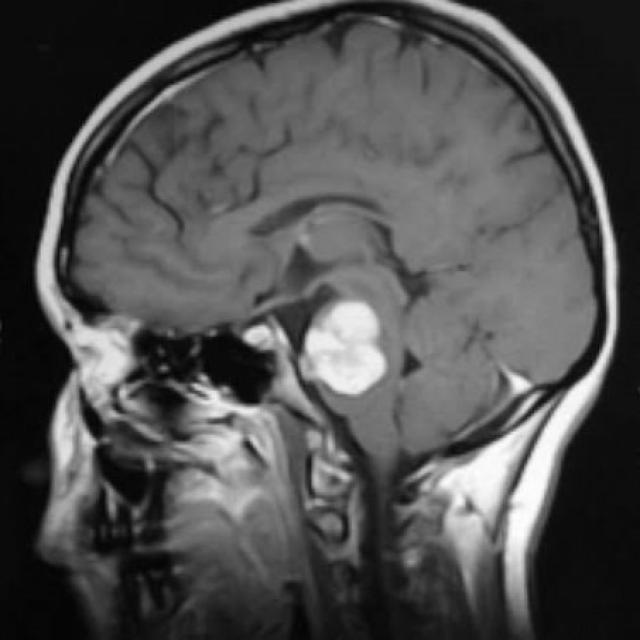glioma: (298, 298, 388, 401)
